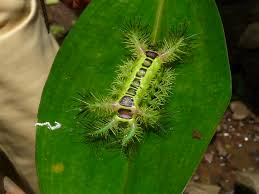Pest! (nettle_caterpillar): (90, 19, 181, 149)
